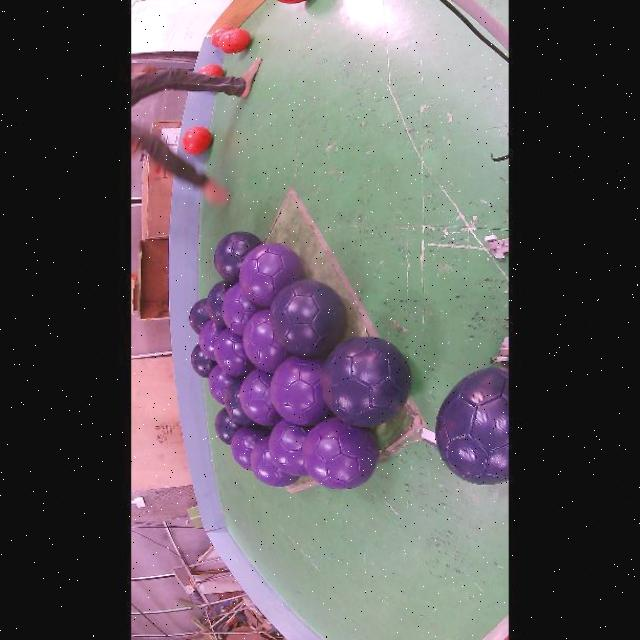B: (436, 367, 508, 485), (320, 335, 410, 426), (269, 280, 345, 356), (213, 232, 260, 284), (223, 378, 257, 427), (205, 281, 231, 325), (213, 409, 242, 445), (189, 344, 216, 378), (190, 300, 211, 335)
P: (301, 418, 379, 490), (269, 356, 330, 426), (238, 243, 303, 306), (242, 309, 290, 373), (268, 419, 311, 477), (250, 436, 298, 487), (239, 369, 280, 426), (221, 284, 260, 337), (213, 329, 255, 377), (230, 427, 269, 472), (206, 365, 235, 405), (199, 319, 225, 360)
R: (218, 28, 250, 53), (181, 127, 210, 154), (210, 27, 234, 47), (197, 64, 223, 77), (277, 0, 307, 3)
